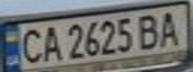2: (96, 16, 121, 55), (63, 20, 84, 60)
5: (115, 15, 139, 54)
6: (81, 18, 103, 57)
A: (154, 8, 187, 47), (36, 24, 63, 62)
B: (133, 11, 163, 51)
C: (15, 26, 45, 65)
